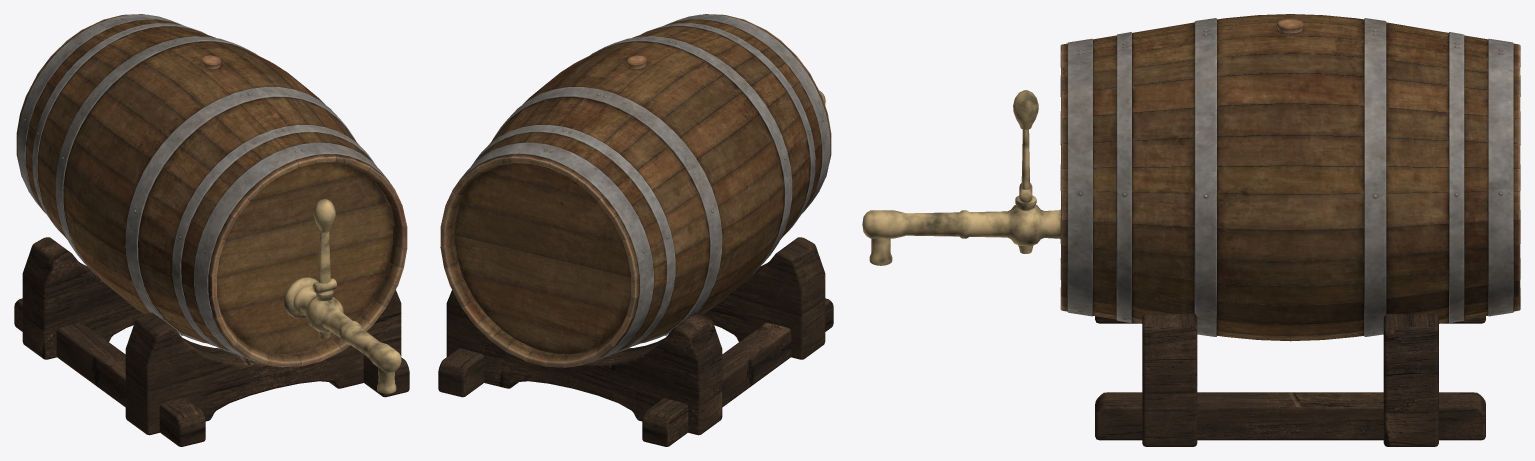
The model's file is keg.glb.
3 views of the same model, side by side, from view 1: azimuth 30°, elevation 25°; view 2: azimuth 150°, elevation 25°; view 3: azimuth 270°, elevation 25° (orthographic). The views are drawn at different scales.
Visible parts, largest first — view 1: Keg, Cradle, Tap, TapLever; view 2: Keg, Cradle; view 3: Keg, Cradle, Tap, TapLever.
Boxes of the visible parts, left/top/right/bottom form: Keg: left=16, top=14, right=407, bottom=367; Cradle: left=14, top=237, right=409, bottom=446; Tap: left=284, top=277, right=401, bottom=393; TapLever: left=312, top=199, right=336, bottom=293; Keg: left=440, top=14, right=831, bottom=367; Cradle: left=438, top=237, right=833, bottom=446; Keg: left=1060, top=14, right=1520, bottom=341; Cradle: left=1095, top=313, right=1485, bottom=446; Tap: left=862, top=195, right=1060, bottom=265; TapLever: left=1013, top=90, right=1038, bottom=202.
Bounding box in the file's own units: 0.3 × 0.3378 × 0.5723.
Materials: 3 (3 with a texture image).
